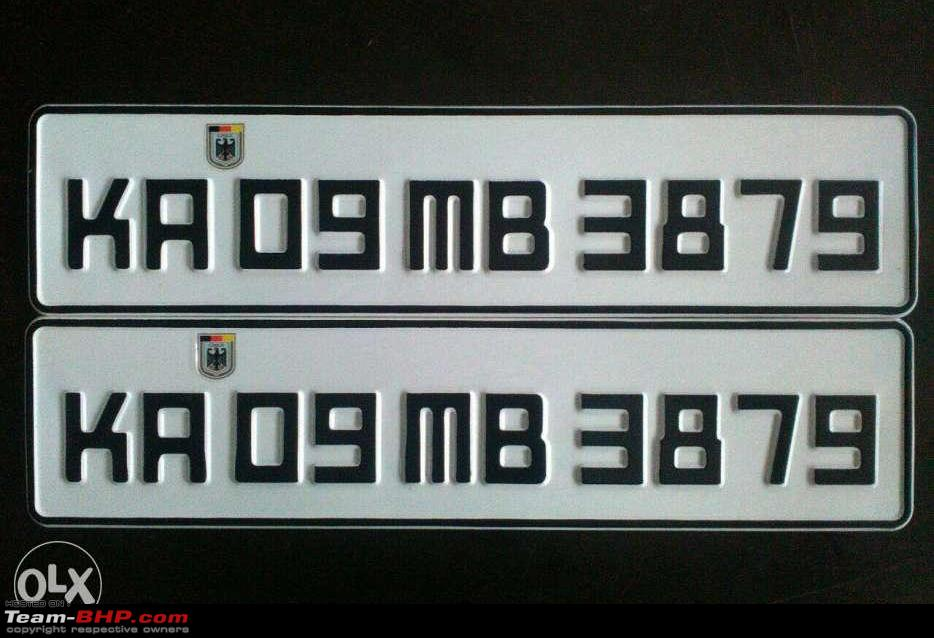number_plate: (34, 95, 922, 320), (23, 316, 918, 535)
